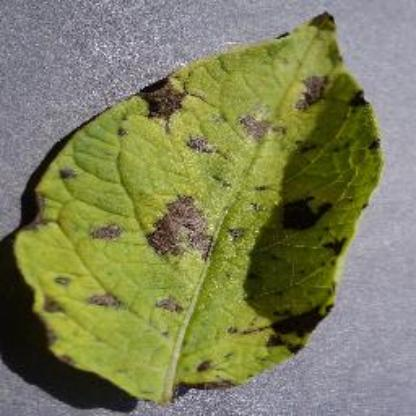Early-Blight: (13, 13, 402, 404)
